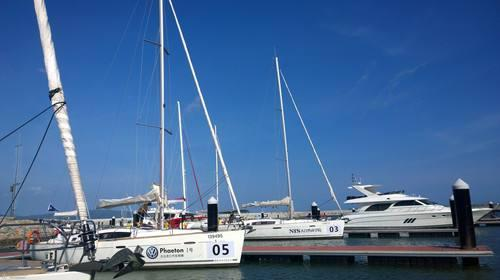otherboat: (17, 215, 238, 266), (190, 206, 347, 241)
yacht: (341, 169, 494, 236)
